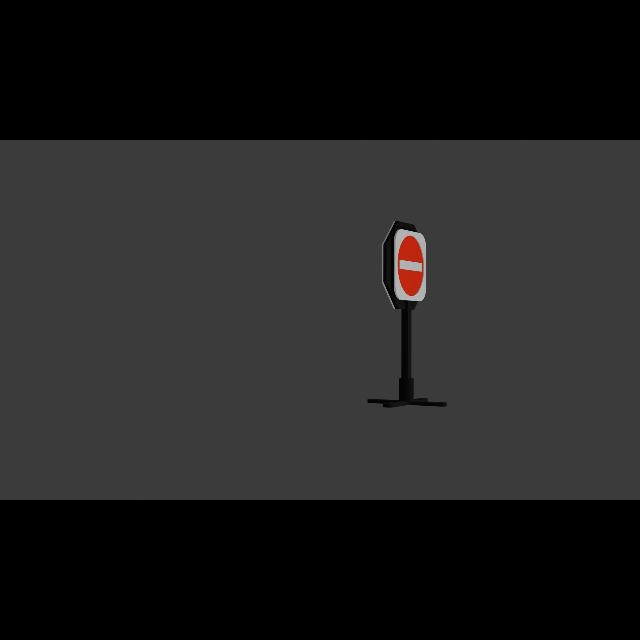sign_noentry: (394, 231, 432, 304)
